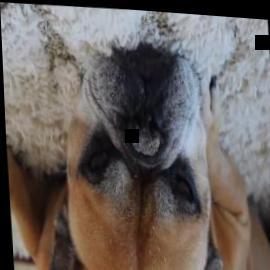keratosis: (124, 118, 165, 158)
